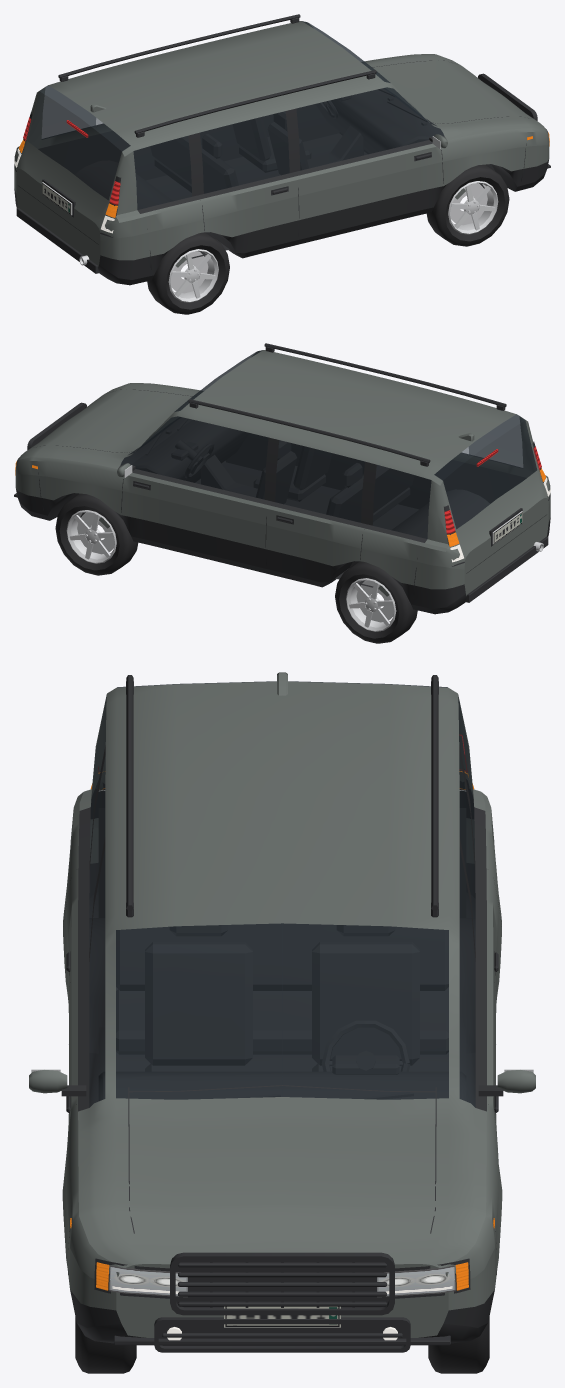
Rendered from car_suv.glb.
3 views of the same model, one above another, from view 1: azimuth 30°, elevation 25°; view 2: azimuth 150°, elevation 25°; view 3: azimuth 270°, elevation 25° (orthographic). The views are drawn at different scales.
Visible parts, largest first — view 1: Body, Wheel_RR, Wheel_FR; view 2: Body, Wheel_RL, Wheel_FL; view 3: Body, Wheel_FL, Wheel_FR.
Part boxes in pixels (x1,y1,x2,y2): Body: [14, 14, 550, 285]; Wheel_RR: [147, 232, 229, 314]; Wheel_FR: [426, 164, 509, 246]; Body: [14, 343, 550, 614]; Wheel_RL: [335, 561, 417, 643]; Wheel_FL: [55, 493, 138, 575]; Body: [29, 672, 535, 1352]; Wheel_FL: [428, 1316, 489, 1373]; Wheel_FR: [75, 1316, 136, 1373].
Size of the model in its own units: 4.7 by 1.85 by 2.25.
Materials: 7 (3 with a texture image).
